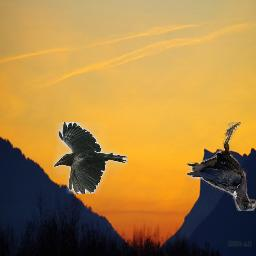Crow: (186, 123, 256, 212), (54, 122, 129, 194)
